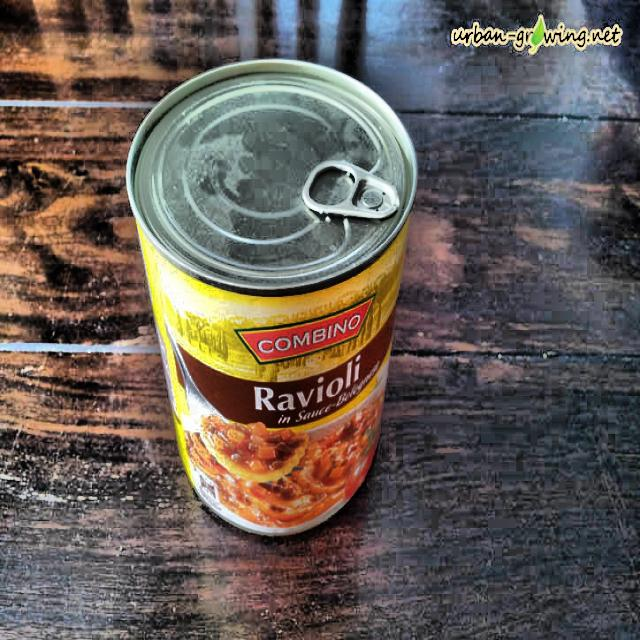Cans: (117, 39, 432, 556)
